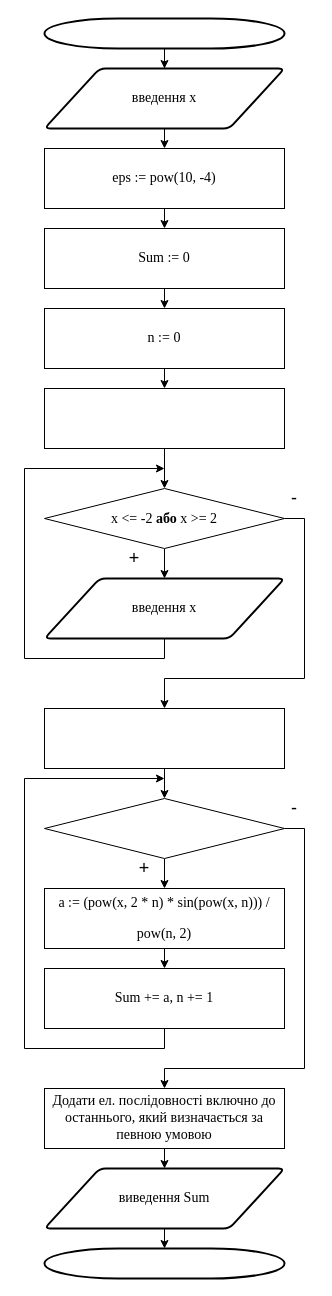
The diagram is 332 pixels wide and 1296 high, and some of its shapes have lost their labels. The shapes that lost their labels are listed below. From the top down, each one's centre as x and y in pixels, then its label:
the point at 164,33: початок
the point at 164,418: a := 0
the point at 164,738: n := 1
the point at 164,828: n <= 10
the point at 164,1263: кінець
